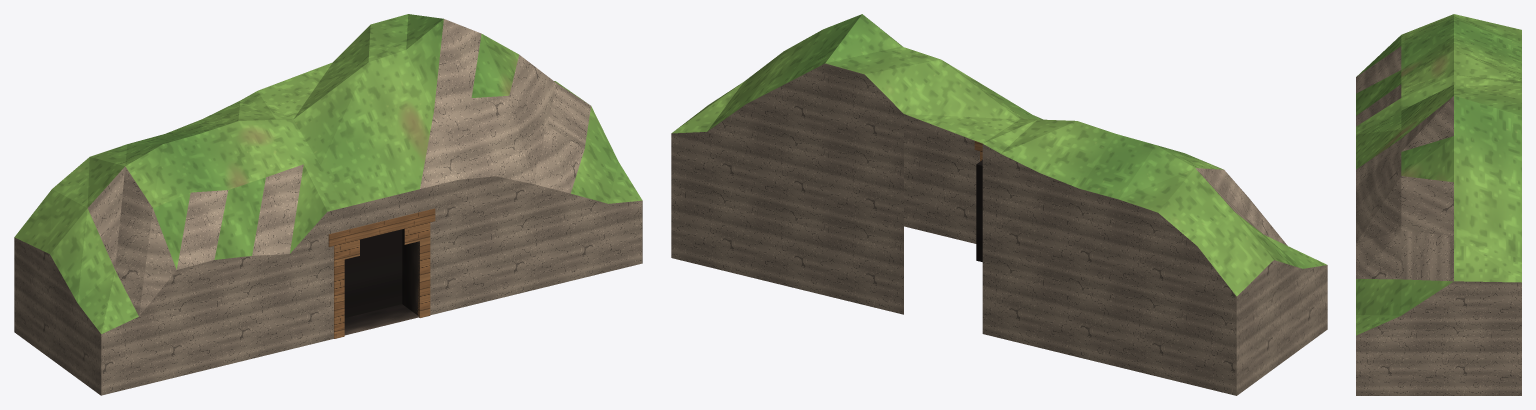
Rendered from mineHill.glb.
The picture shows the model from 3 angles, left to right: view 1: azimuth 30°, elevation 25°; view 2: azimuth 150°, elevation 25°; view 3: azimuth 270°, elevation 25°; orthographic projection. The views are drawn at different scales.
Visible parts, largest first — view 1: mineHill; view 2: mineHill; view 3: mineHill.
Part boxes in pixels (x1=…): mineHill: x1=14, y1=14, x2=642, y2=395; mineHill: x1=671, y1=14, x2=1327, y2=395; mineHill: x1=1356, y1=14, x2=1521, y2=395.
Bounding box in the file's own units: 15.8 × 6.79 × 4.4.
4 materials, 4 textured.
